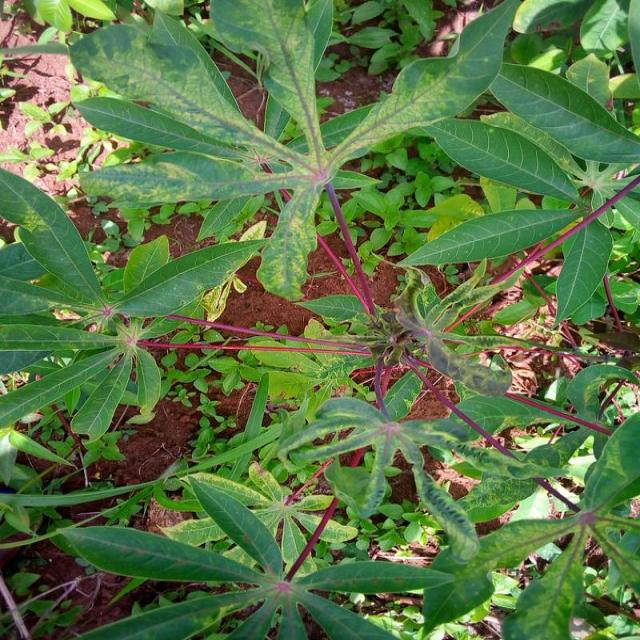cassava leaf: (2, 1, 638, 637), (67, 1, 638, 306)
